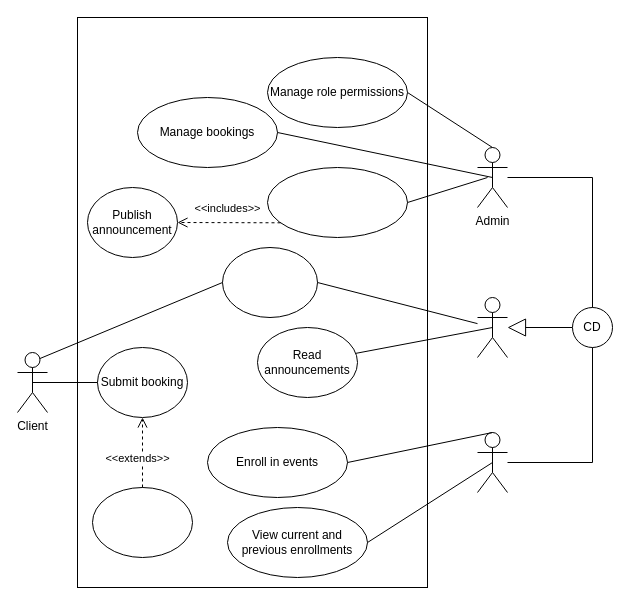
The diagram is 630 pixels wide and 605 high, and some of its shapes have lost their labels. The box of each missing label's shape, as (x1, y1, x2, y2) in pixels:
Authenticate (logging in): (222, 246, 318, 318)
Create announcements: (266, 166, 408, 238)
Crew: (476, 432, 508, 492)
Staff: (476, 296, 508, 358)
Submit multiple bookings: (92, 486, 192, 558)
